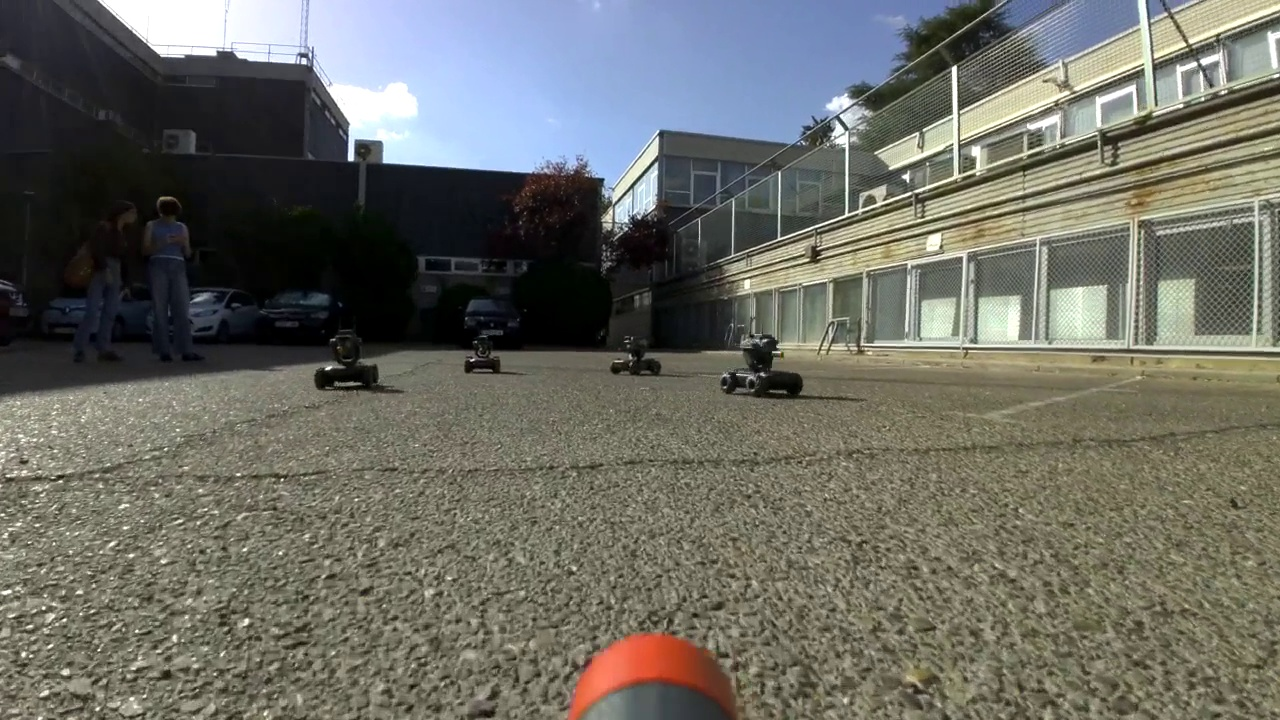robot: (719, 311, 802, 398), (313, 320, 378, 397), (612, 331, 662, 374), (465, 329, 502, 372)
